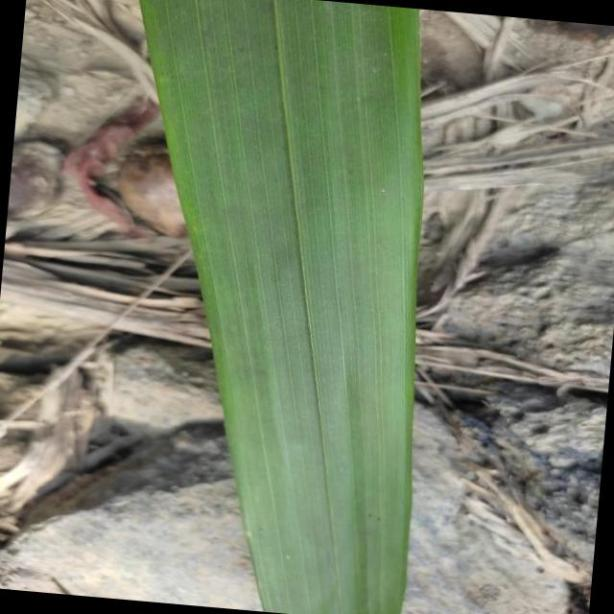Healthy: (140, 0, 420, 614)
